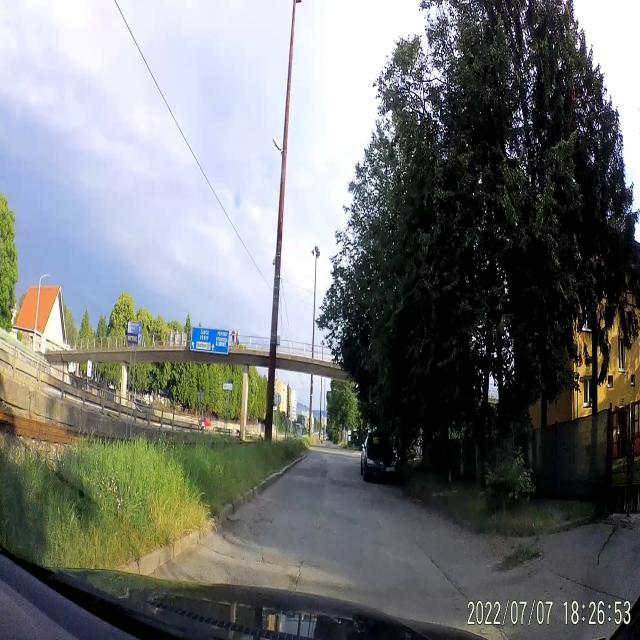Pothole: (214, 512, 264, 558)
